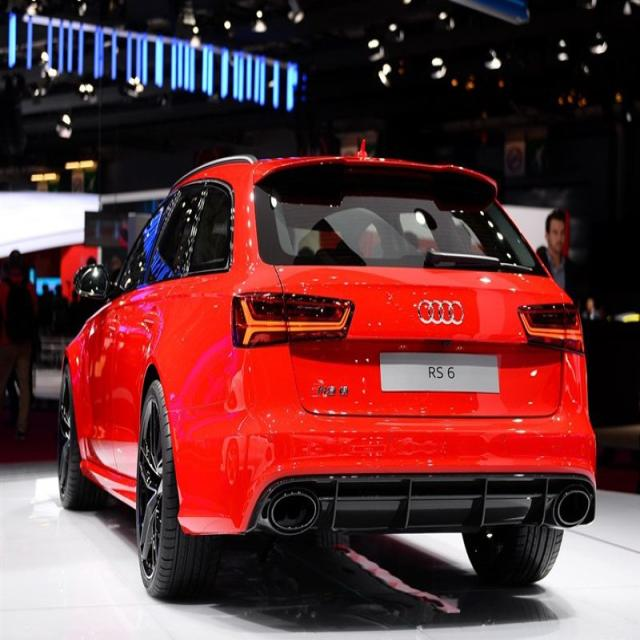back_glass: (252, 159, 550, 279)
back_left_side_light: (227, 282, 356, 357)
back_right_side_light: (516, 298, 589, 354)
front_left_side_door: (84, 190, 170, 480)
front_left_side_mirror: (71, 258, 117, 302)
rear_bumper: (167, 336, 600, 542)
